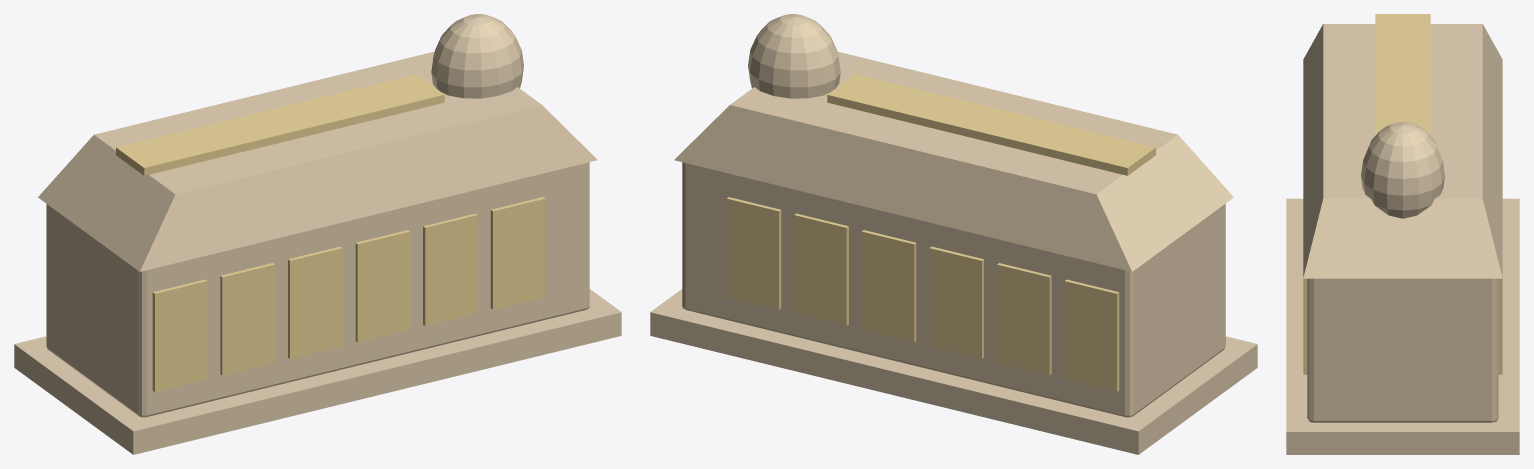
Rendered from sarcophagus.glb.
The picture shows the model from 3 angles, left to right: view 1: azimuth 30°, elevation 25°; view 2: azimuth 150°, elevation 25°; view 3: azimuth 270°, elevation 25°; orthographic projection. The views are drawn at different scales.
Visible parts, largest first — view 1: sarcophagus; view 2: sarcophagus; view 3: sarcophagus.
Boxes of the visible parts, box(x1,y1,x2,y2) form: sarcophagus: box(14, 14, 621, 454); sarcophagus: box(650, 14, 1257, 454); sarcophagus: box(1286, 14, 1519, 454).
Size of the model in its own units: 2.6 by 1.5 by 1.1.
